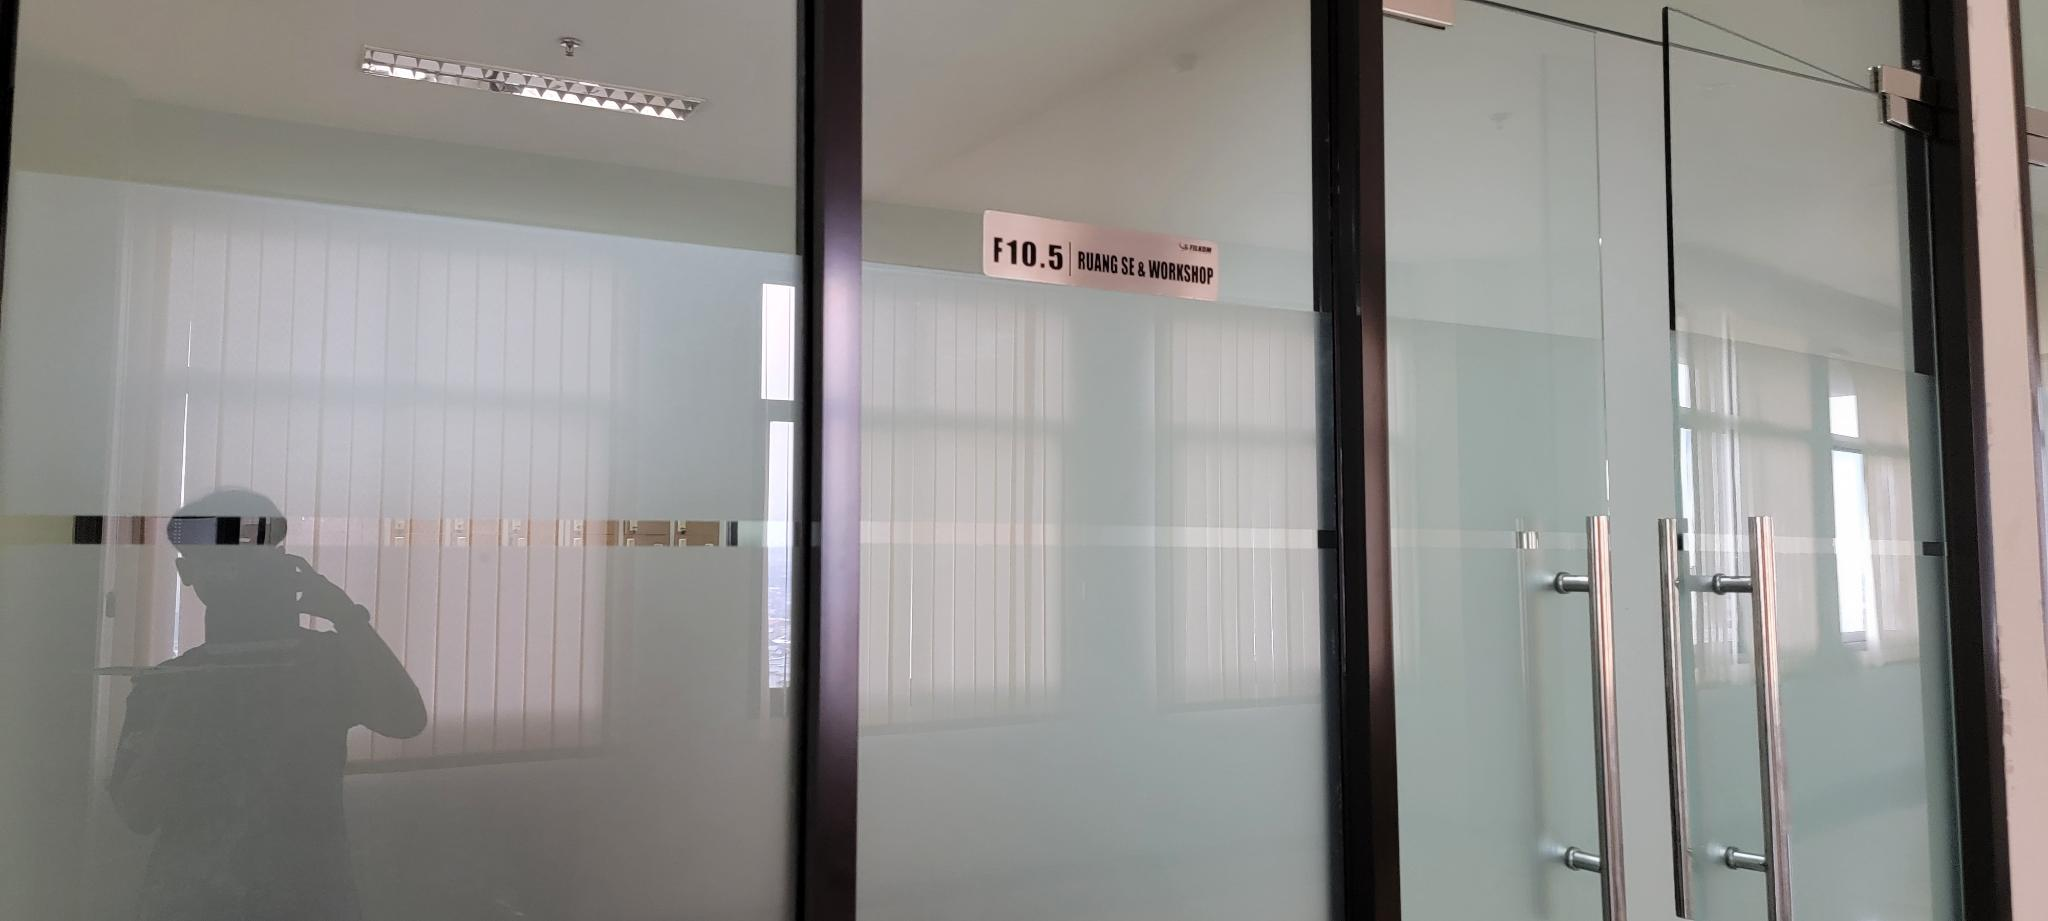plate: (981, 209, 1221, 306)
